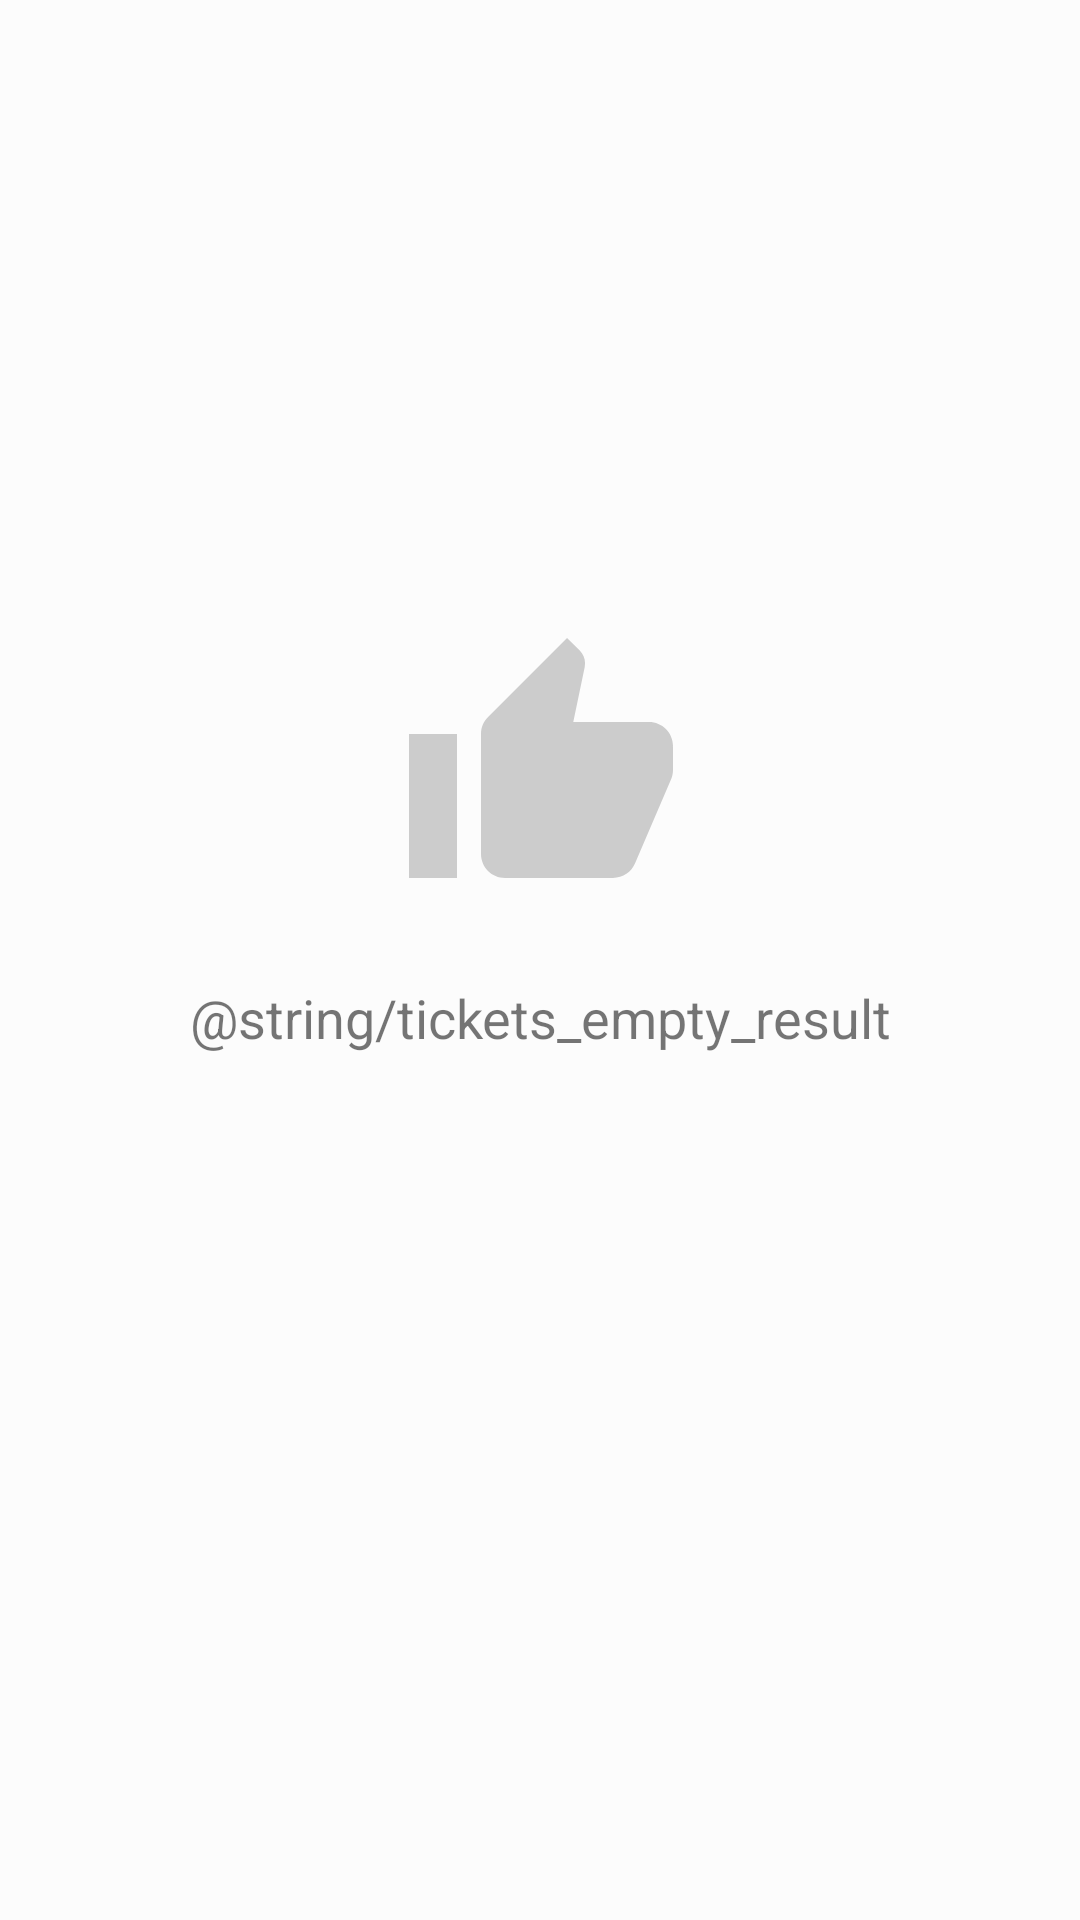

Where icons sit on this 1080 x 1920 app screen, as (x1, y1, x2, y2):
thumb up: (409, 638, 673, 878)
